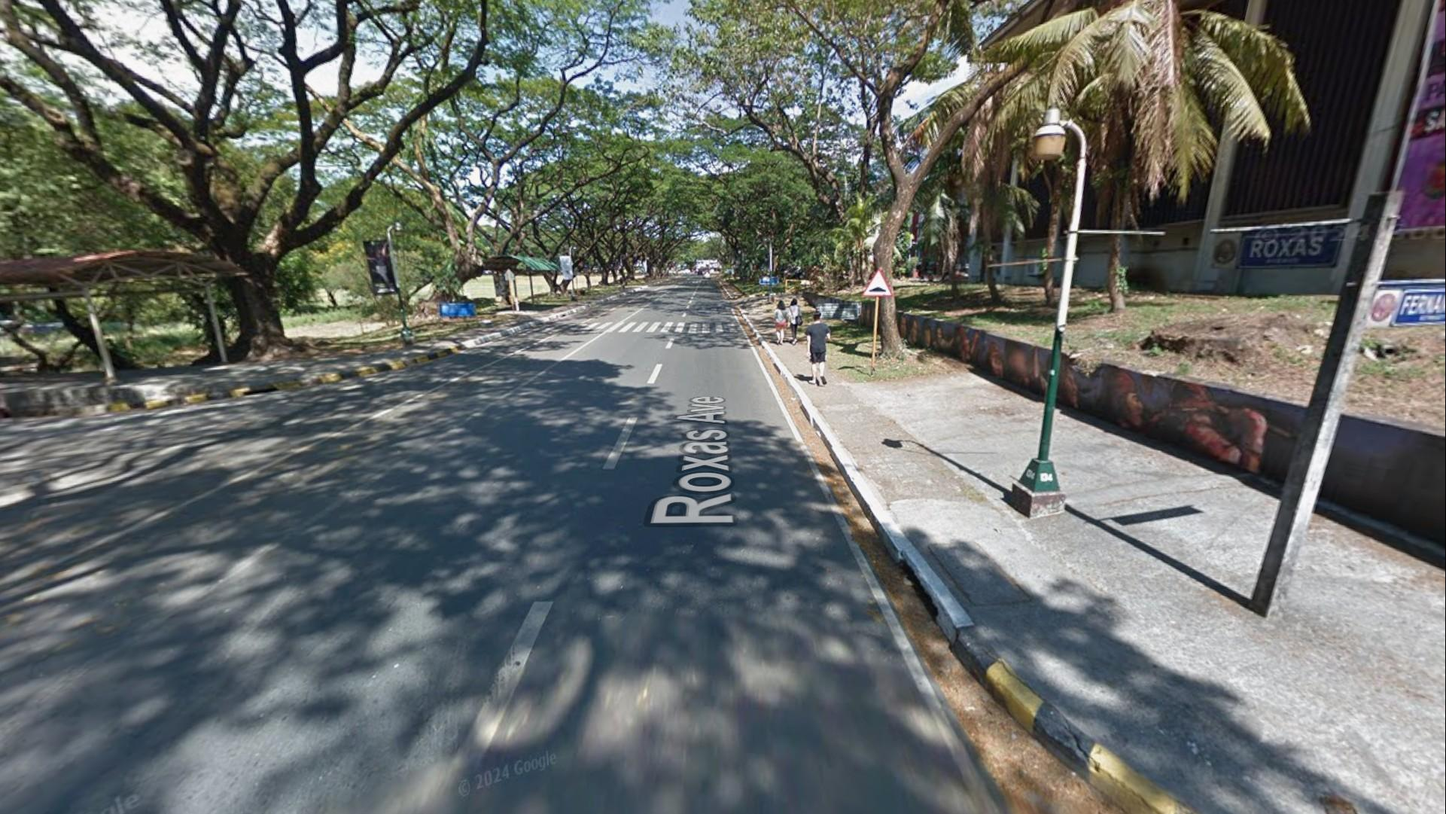pedestrian: (806, 310, 832, 386), (774, 299, 790, 344), (788, 297, 803, 345)
